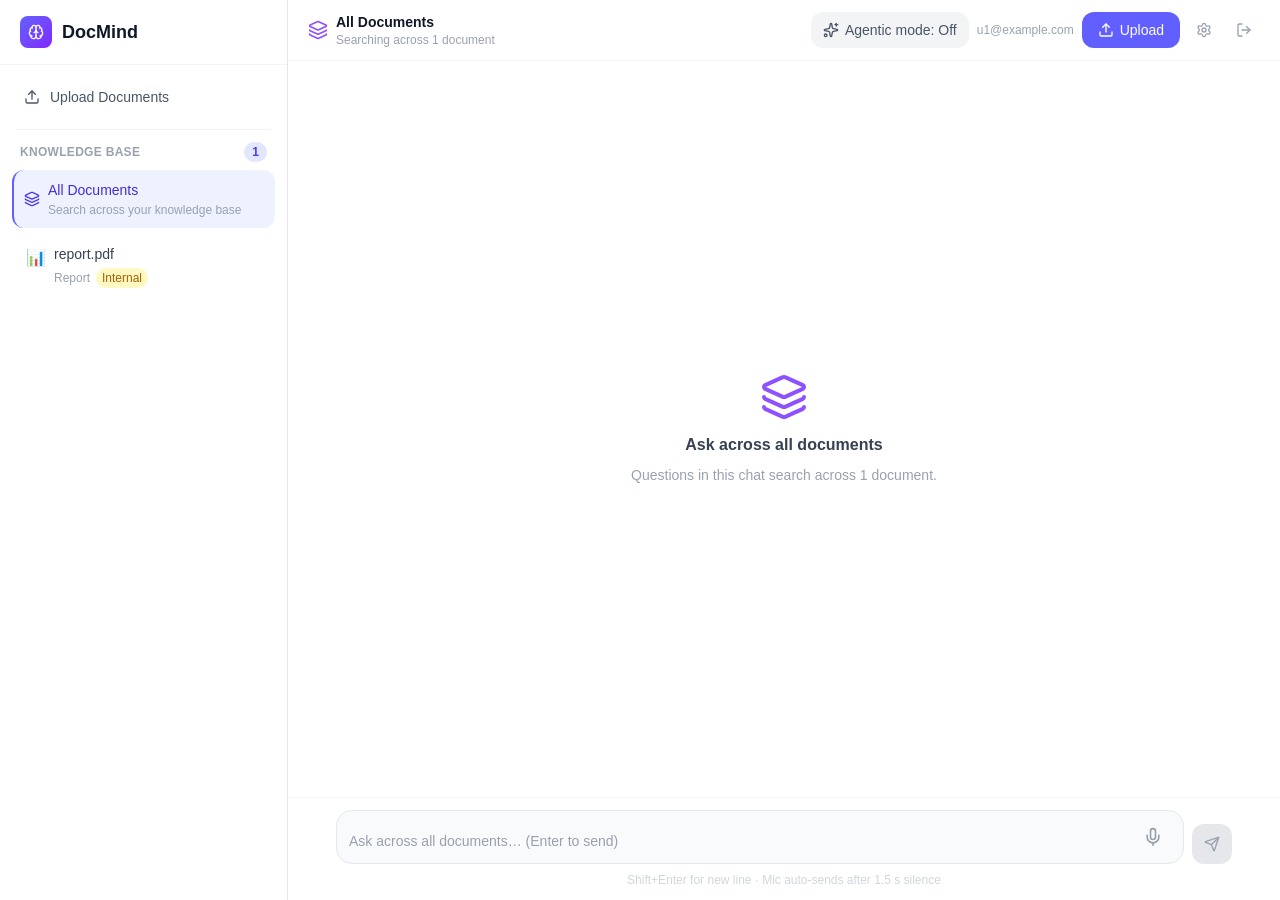
Scenario: service errors in chat › shows the daily-budget message when chat is refused with 429
Type "What is the total?" into the text box with placeholder "Ask across all documents… (Enter to send)" at coordinates (738, 841), box [349, 827, 1127, 855]
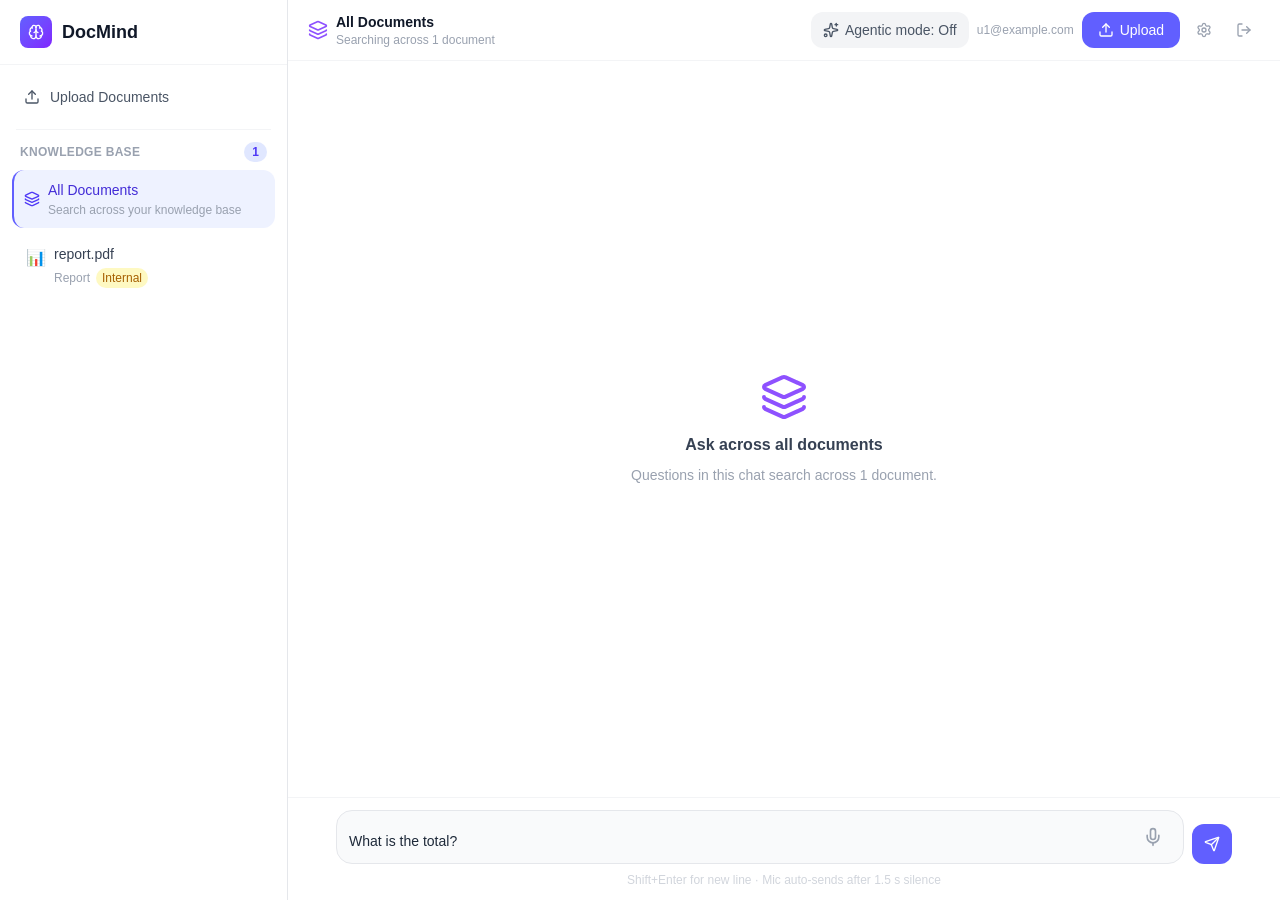
Press Enter in the text box with placeholder "Ask across all documents… (Enter to send)", box [349, 827, 1127, 855]
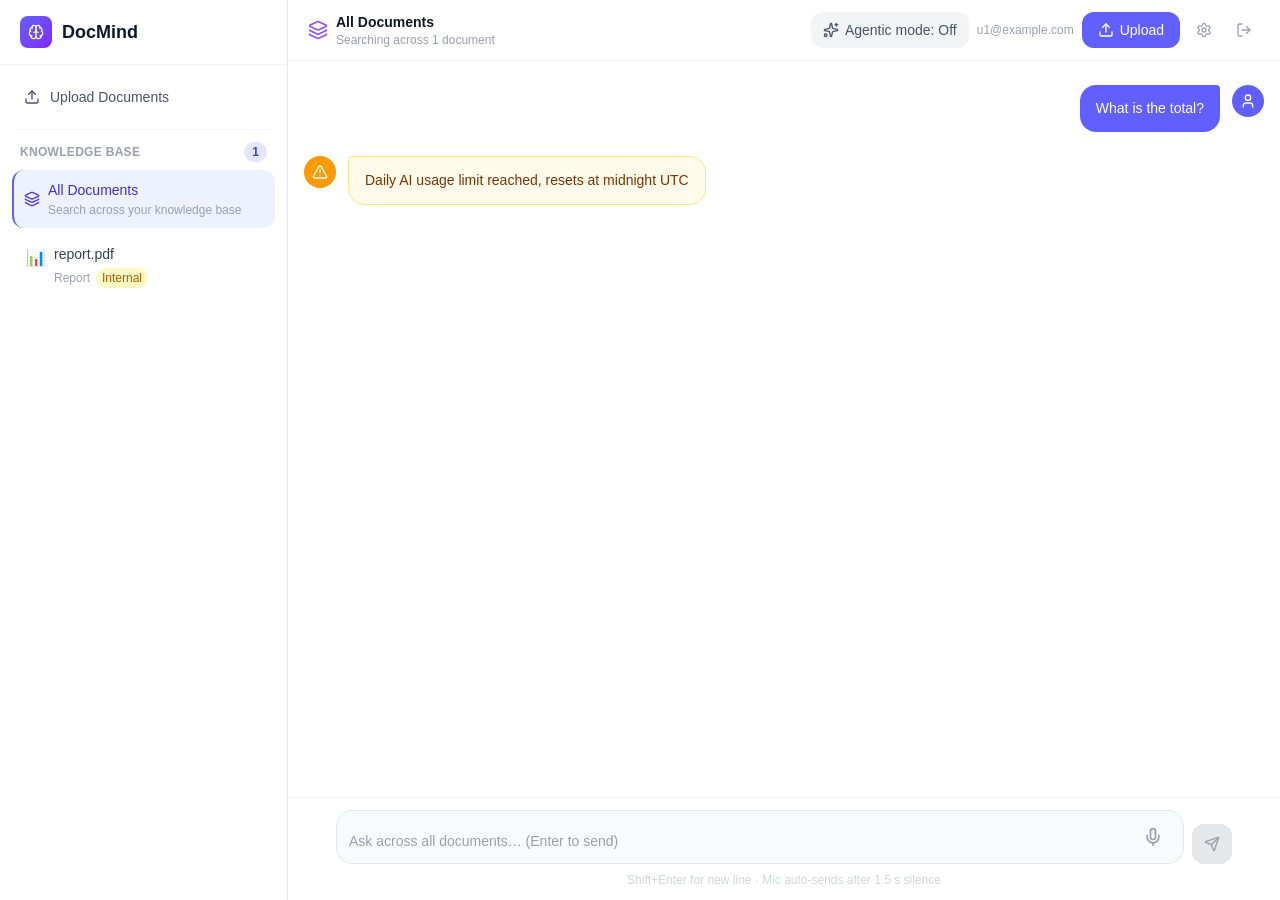
Check: the message reads "Daily AI usage limit reached, resets at midnight UTC", box [365, 172, 689, 188]
